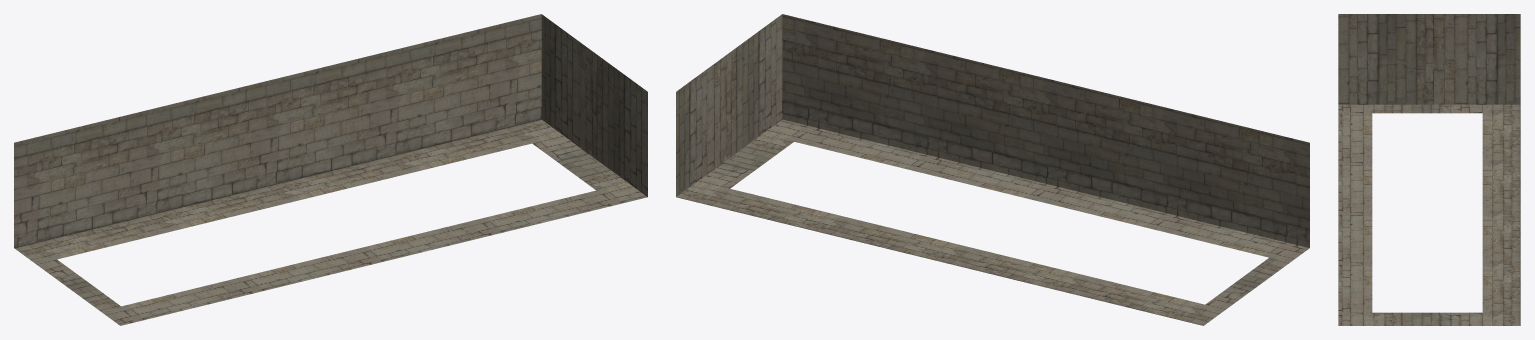
The model's file is Sponza25.gltf.
3 renders of one model, left to right at view 1: azimuth 30°, elevation 25°; view 2: azimuth 150°, elevation 25°; view 3: azimuth 270°, elevation 25°, orthographic. The views are drawn at different scales.
Bounding box in the file's own units: 16.67 × 3.25 × 5.82.
Materials: 1 (1 with a texture image).
